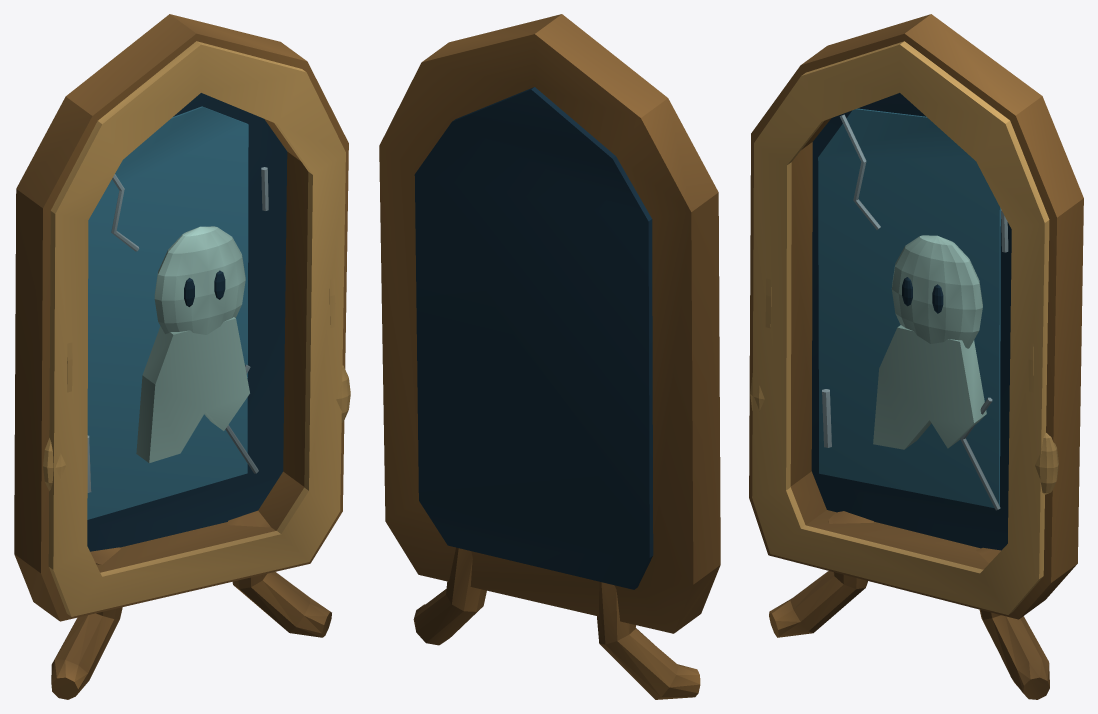
File: haunted_mirror.fbx
3 views of the same model, side by side, from view 1: azimuth 30°, elevation 25°; view 2: azimuth 150°, elevation 25°; view 3: azimuth 330°, elevation 25° (orthographic). The views are drawn at different scales.
Parts seen in each view (by area): view 1: haunted_mirror; view 2: haunted_mirror; view 3: haunted_mirror.
Boxes of the visible parts, bbox=[...] form: haunted_mirror: bbox=[14, 14, 350, 699]; haunted_mirror: bbox=[379, 14, 720, 699]; haunted_mirror: bbox=[749, 14, 1083, 699].
Size of the model in its own units: 3.56 by 7 by 0.7097.
